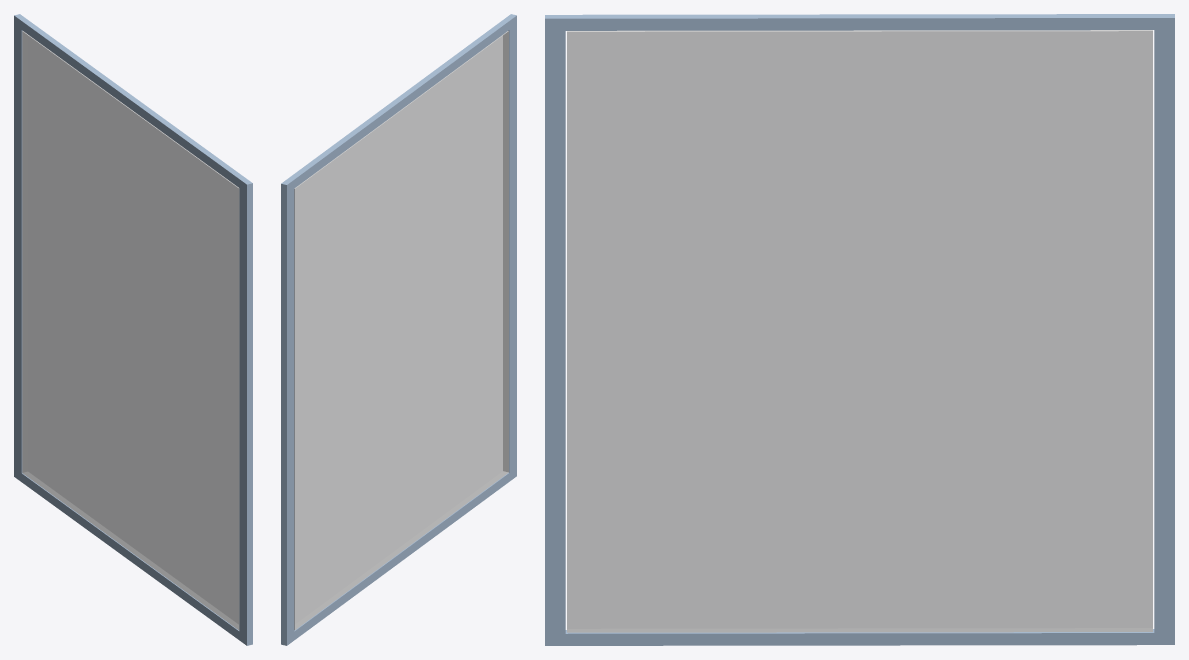
File: Normal.fbx
The picture shows the model from 3 angles, left to right: view 1: azimuth 30°, elevation 25°; view 2: azimuth 150°, elevation 25°; view 3: azimuth 270°, elevation 25°; orthographic projection. The views are drawn at different scales.
Parts seen in each view (by area): view 1: Cube.002, Cube.001; view 2: Cube.002, Cube.001; view 3: Cube.002, Cube.001.
Boxes of the visible parts, box(x1,y1,x2,y2) form: Cube.002: box(22, 31, 239, 629); Cube.001: box(14, 14, 252, 645); Cube.002: box(294, 31, 508, 630); Cube.001: box(281, 14, 516, 645); Cube.002: box(567, 30, 1152, 632); Cube.001: box(545, 14, 1174, 645).
Size of the model in its own units: 5.53 by 336 by 306.
